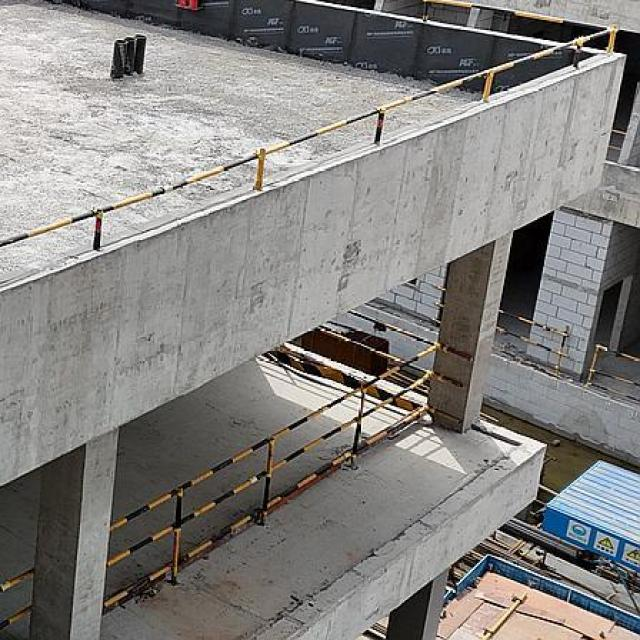edge_guardrail: (0, 0, 620, 253), (101, 308, 476, 611), (431, 281, 572, 380), (585, 342, 640, 402), (0, 567, 33, 633), (608, 128, 626, 152)
